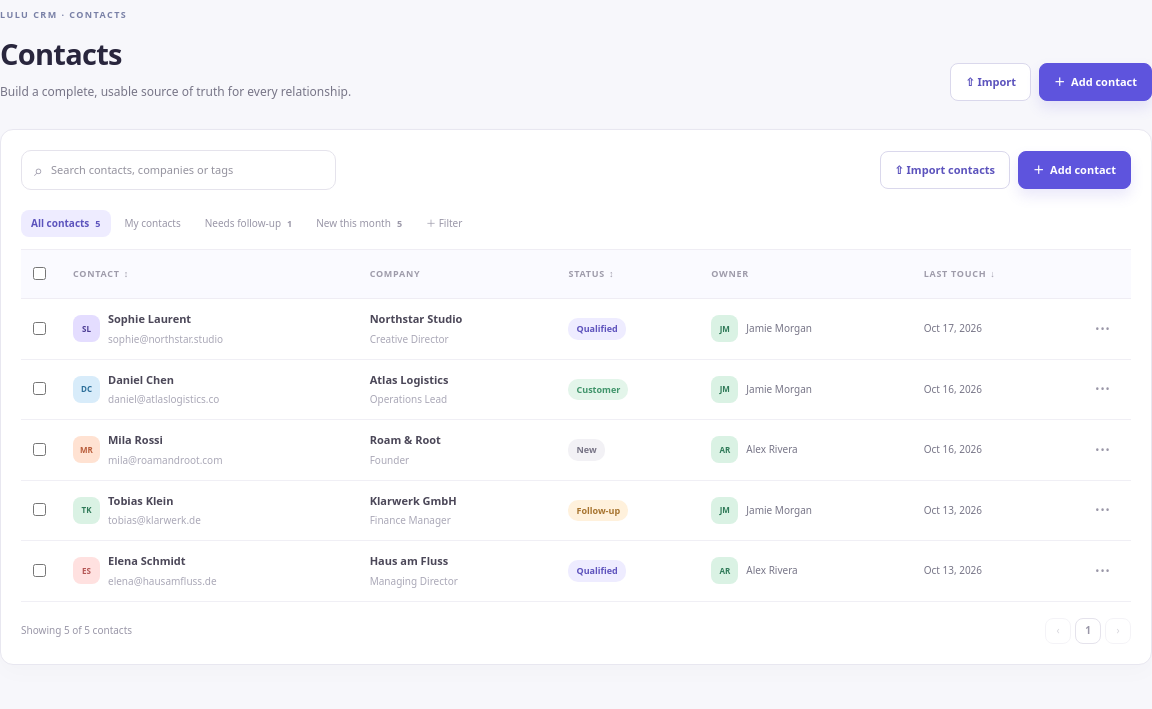
Scenario: Contacts page › opens the profile drawer with tasks and timeline, and edits from it
Click the text "Sophie Laurent" at (150, 318), box [108, 311, 191, 326]
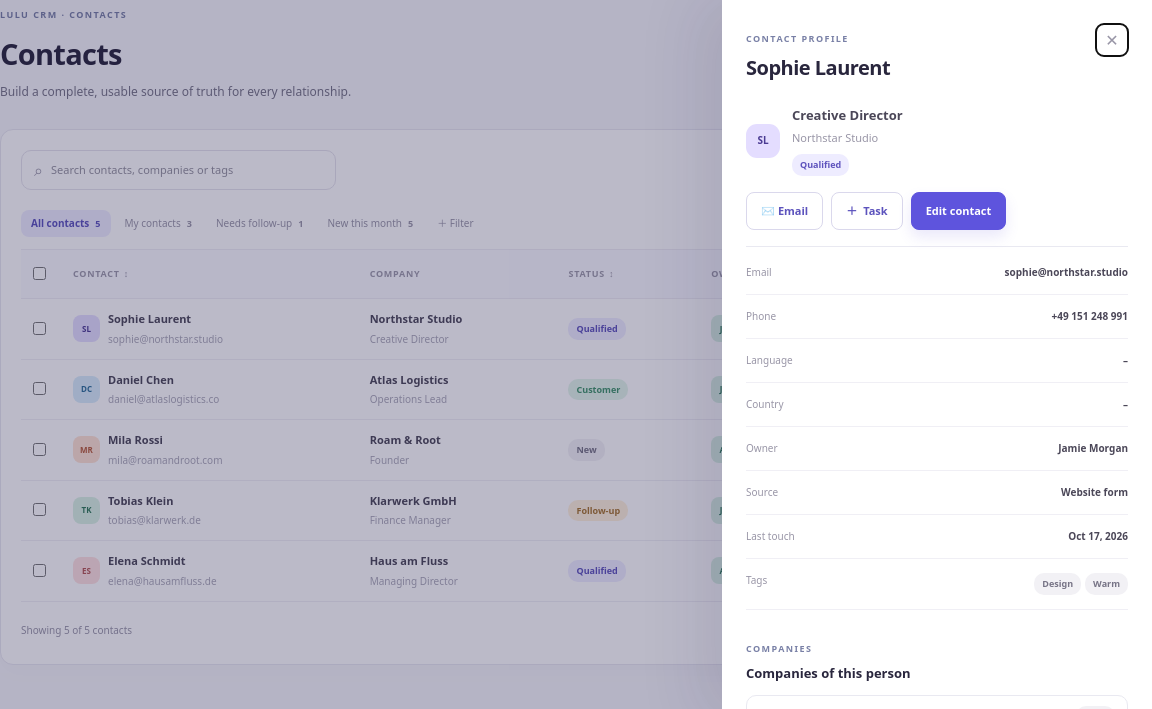
expect the text "Website form" is shown: met, box [1061, 485, 1128, 500]
Click the button "Edit contact" at (958, 211), box [911, 192, 1006, 230]
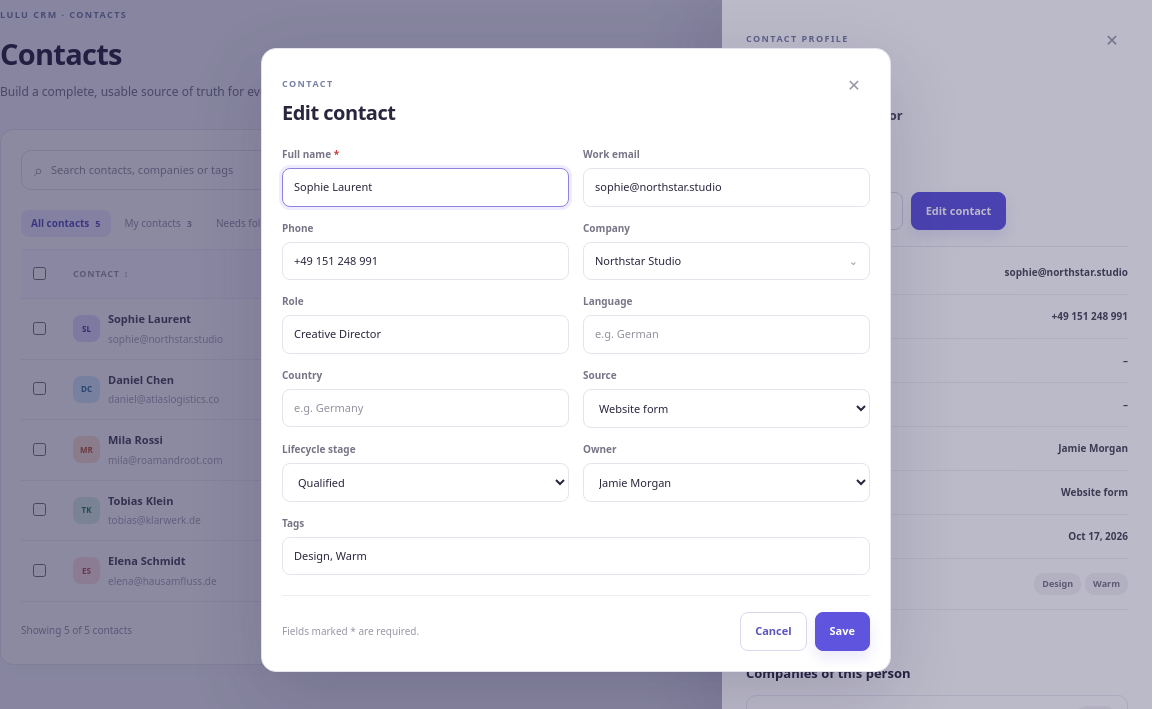
expect the field labelled "Full name *" holds "Sophie Laurent": met, box [282, 168, 569, 207]
Replace the text in the field labelled "Role" with "Head of Design" at (426, 335), box [282, 315, 569, 354]
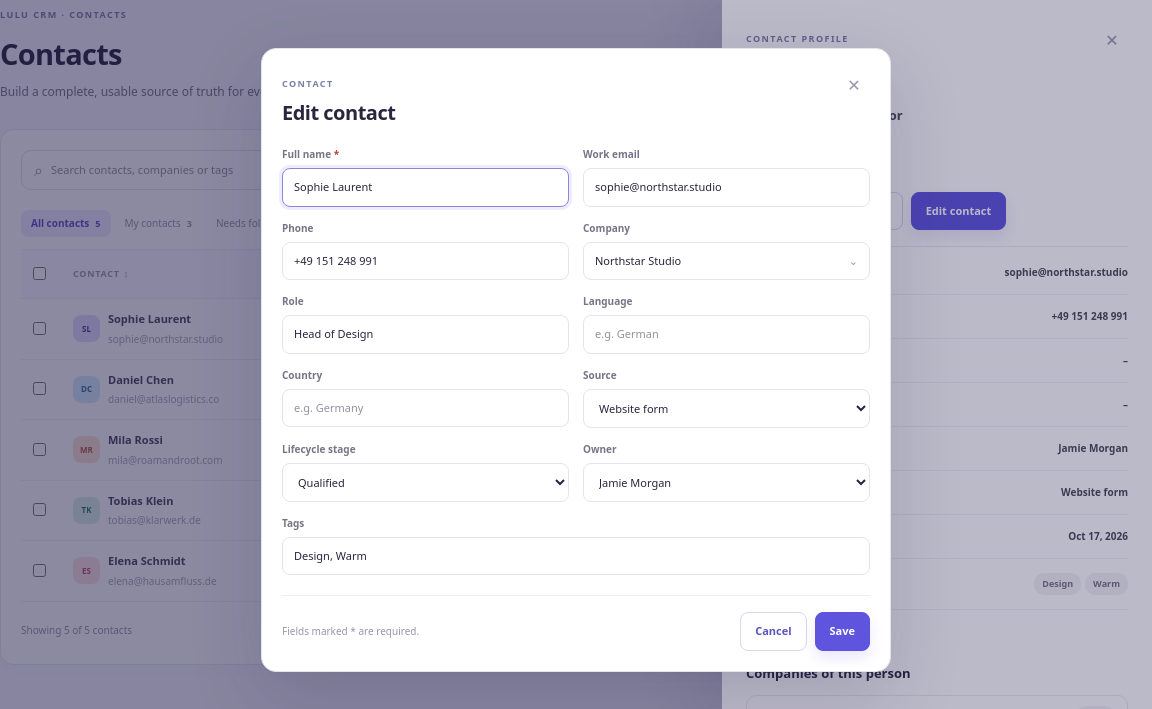
Click the button "Save" at (842, 632), box [814, 612, 870, 651]
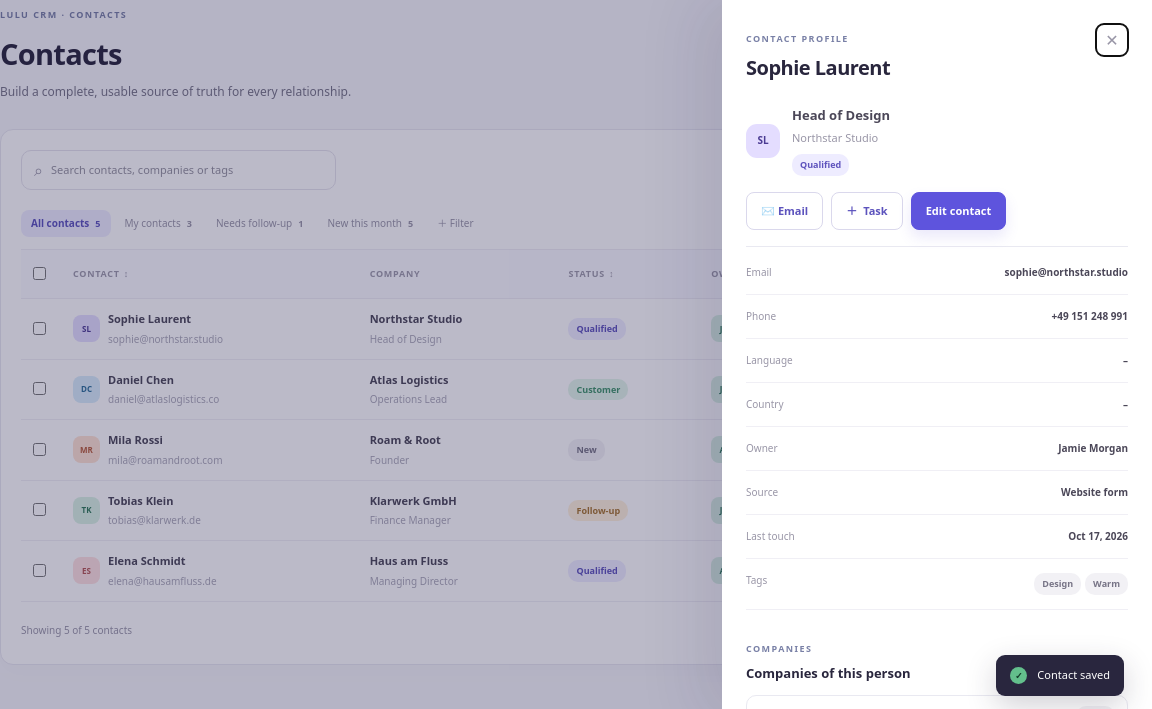
expect the text "Contact saved" is shown: met, box [1037, 667, 1110, 682]
expect the text "Head of Design" is shown: met, box [792, 106, 890, 124]
